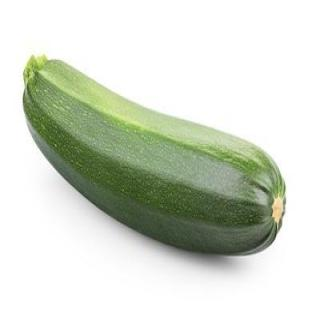Zucchini: (24, 57, 285, 254)
